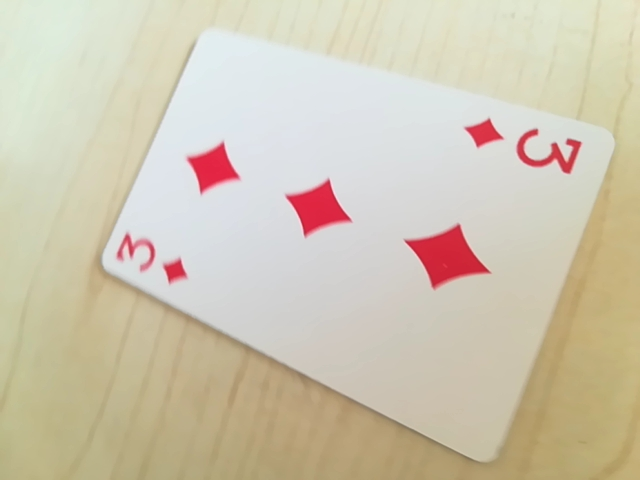fk 3: (457, 117, 586, 176), (112, 224, 194, 290)
